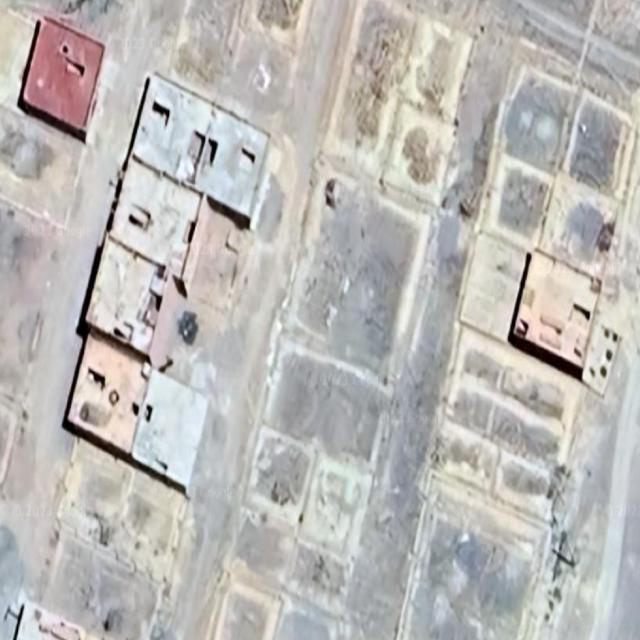Countryside roofs: (15, 0, 110, 161), (513, 240, 602, 400), (66, 314, 151, 474), (133, 52, 214, 205), (139, 364, 214, 512), (116, 148, 197, 278), (81, 225, 157, 357), (190, 121, 276, 232)
